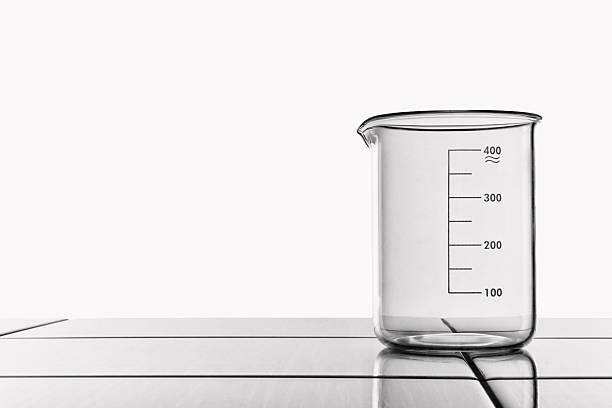Beaker: (354, 105, 545, 353)
